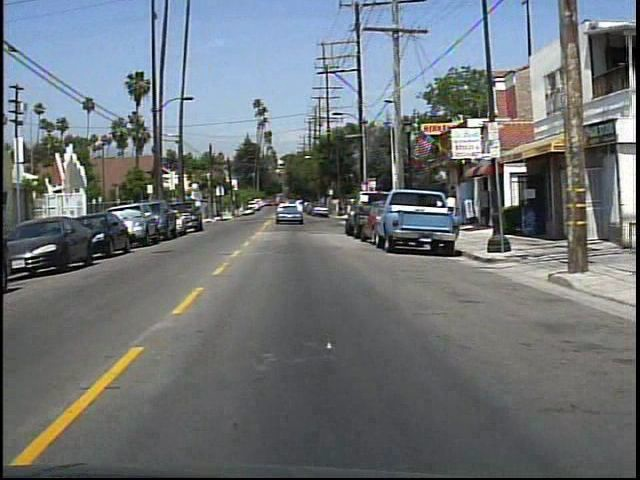person: (442, 189, 463, 231)
